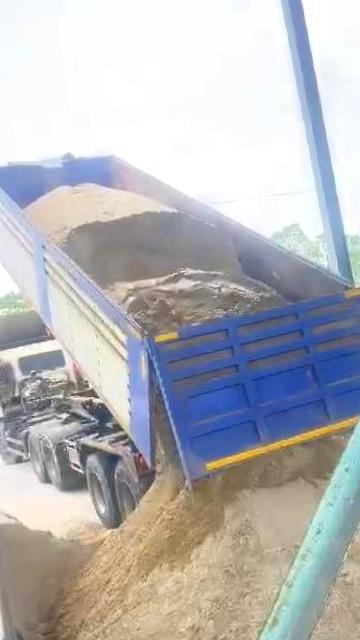sand: (53, 406, 342, 640), (26, 184, 283, 330), (286, 420, 360, 640), (0, 522, 97, 631)
